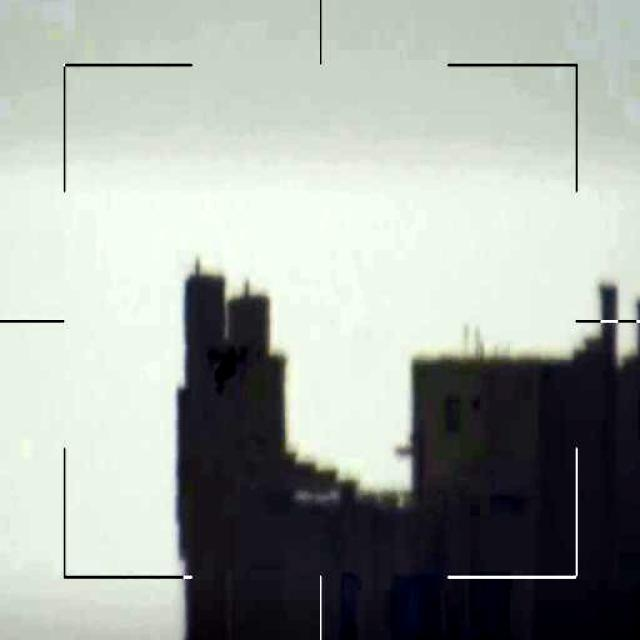bird: (202, 331, 252, 401)
